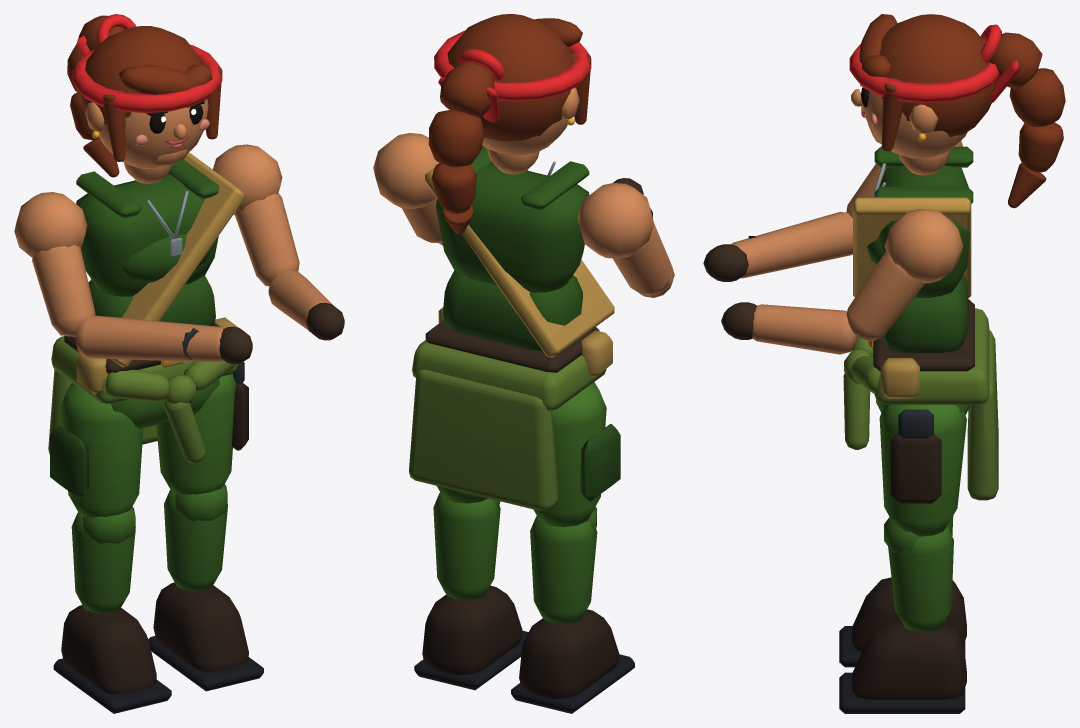
The model's file is commandoWoman.glb.
3 renders of one model, left to right at view 1: azimuth 30°, elevation 25°; view 2: azimuth 150°, elevation 25°; view 3: azimuth 270°, elevation 25°, orthographic. The views are drawn at different scales.
Visible parts, largest first — view 1: Waist.001, Neck.001, Knee.002, Knee.003, Pelvis.001, Thigh.002, Shoulder.002, Forearm.002, Shoulder.003, Thigh.003, Forearm.003; view 2: Pelvis.001, Waist.001, Neck.001, Knee.002, Knee.003, Thigh.002, Shoulder.002, Shoulder.003; view 3: Neck.001, Knee.003, Pelvis.001, Waist.001, Thigh.003, Shoulder.003, Forearm.002, Forearm.003, Knee.002, Shoulder.002.
Part boxes in pixels (bbox=[...]): Waist.001: bbox=[76, 152, 244, 367]; Neck.001: bbox=[67, 14, 222, 183]; Knee.002: bbox=[53, 507, 171, 713]; Knee.003: bbox=[148, 484, 263, 691]; Pelvis.001: bbox=[48, 317, 238, 463]; Thigh.002: bbox=[50, 383, 143, 517]; Shoulder.002: bbox=[14, 192, 95, 336]; Forearm.002: bbox=[75, 315, 252, 364]; Shoulder.003: bbox=[213, 144, 299, 286]; Thigh.003: bbox=[156, 362, 248, 495]; Forearm.003: bbox=[268, 270, 344, 340]; Pelvis.001: bbox=[409, 307, 612, 510]; Waist.001: bbox=[424, 145, 614, 357]; Neck.001: bbox=[428, 14, 591, 234]; Knee.002: bbox=[511, 507, 634, 713]; Knee.003: bbox=[414, 492, 528, 690]; Thigh.002: bbox=[533, 382, 620, 527]; Shoulder.002: bbox=[577, 183, 672, 295]; Shoulder.003: bbox=[373, 133, 442, 242]; Neck.001: bbox=[849, 14, 1065, 208]; Knee.003: bbox=[839, 517, 966, 713]; Pelvis.001: bbox=[843, 299, 998, 500]; Waist.001: bbox=[853, 146, 973, 352]; Thigh.003: bbox=[879, 404, 966, 536]; Shoulder.003: bbox=[846, 209, 963, 341]; Forearm.002: bbox=[703, 212, 852, 281]; Forearm.003: bbox=[721, 302, 857, 354]; Knee.002: bbox=[839, 516, 966, 667]; Shoulder.002: bbox=[846, 141, 962, 217].
Bounding box in the file's own units: 0.7781 × 1.84 × 0.9193.
17 materials, 15 textured.
